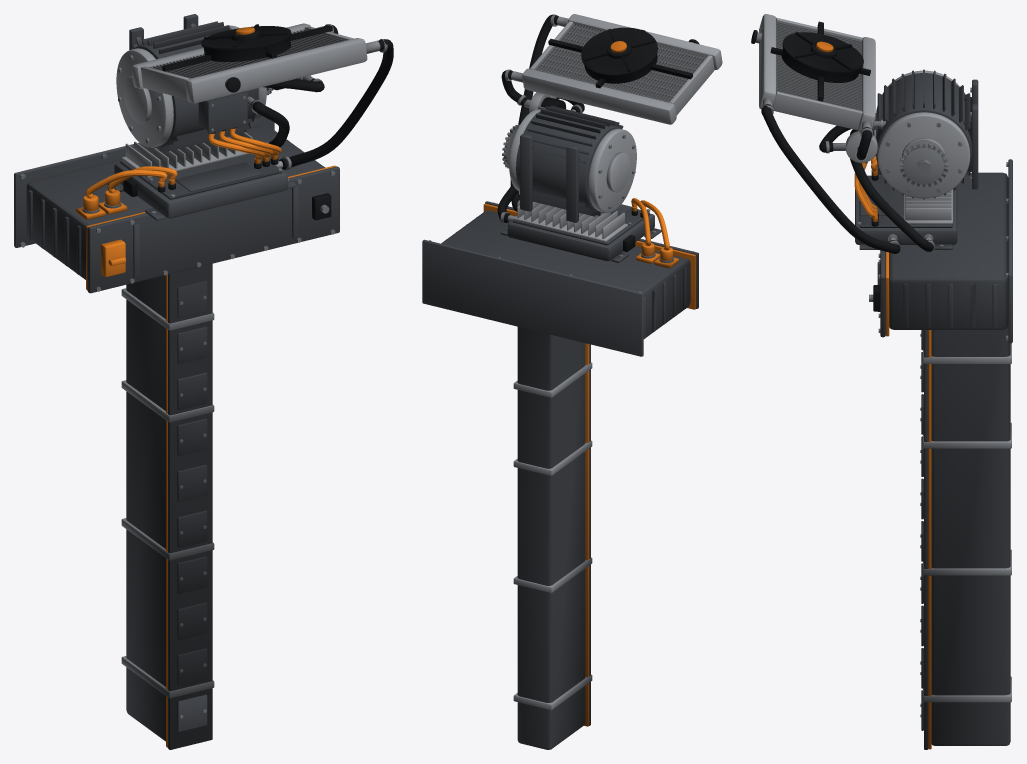
File: parts.glb
3 renders of one model, left to right at view 1: azimuth 30°, elevation 25°; view 2: azimuth 150°, elevation 25°; view 3: azimuth 270°, elevation 25°, orthographic. The views are drawn at different scales.
Visible parts, largest first — view 1: battery, cooling, motor, inverter; view 2: battery, cooling, motor, inverter; view 3: battery, cooling, motor, inverter.
Part boxes in pixels (<box>): battery: <box>14,116,339,749</box>; cooling: <box>131,23,393,170</box>; motor: <box>116,14,281,159</box>; inverter: <box>107,132,295,220</box>; battery: <box>422,198,698,749</box>; cooling: <box>497,14,722,223</box>; motor: <box>502,105,636,222</box>; inverter: <box>500,201,661,262</box>; battery: <box>869,156,1012,749</box>; cooling: <box>751,14,935,253</box>; motor: <box>854,69,978,217</box>; inverter: <box>855,166,957,249</box>.
Size of the model in its own units: 0.6199 by 1.73 by 0.5888.
